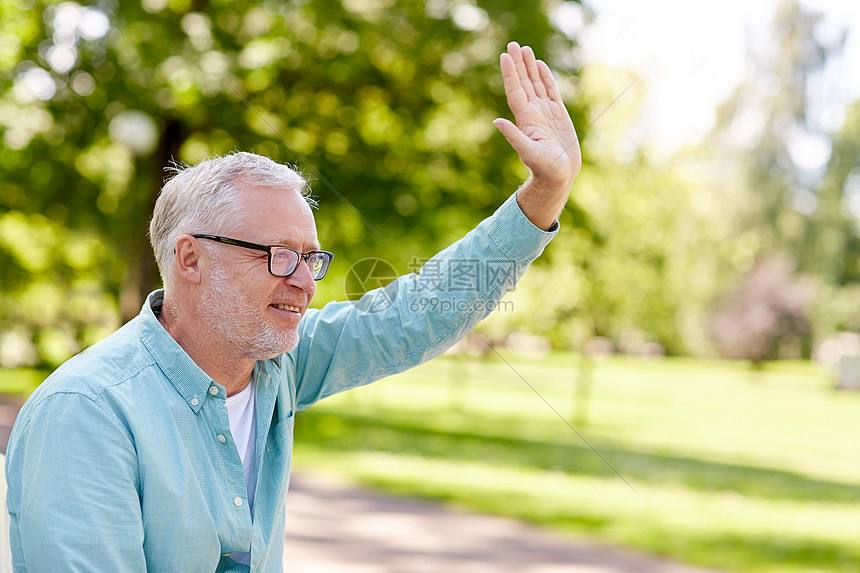no-phone: (492, 39, 584, 184)
